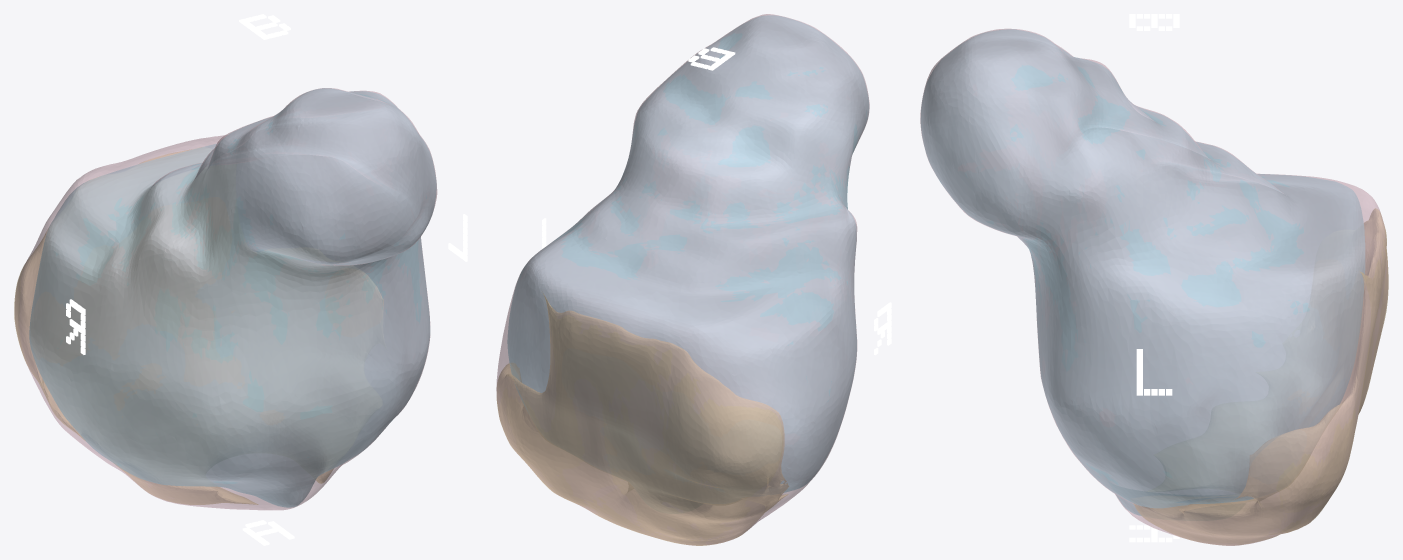
The picture shows the model from 3 angles, left to right: view 1: azimuth 30°, elevation 25°; view 2: azimuth 150°, elevation 25°; view 3: azimuth 270°, elevation 25°; orthographic projection. The views are drawn at different scales.
Visible parts, largest first — view 1: prostate_gland, transition_zone, peripheral_zone, pv_ar_marker_B, pv_ar_marker_R, pv_ar_marker_A; view 2: prostate_gland, transition_zone, peripheral_zone, pv_ar_marker_B, pv_ar_marker_R; view 3: prostate_gland, transition_zone, peripheral_zone, pv_ar_marker_B.
Boxes of the visible parts, <box> form: prostate_gland: <box>15,88,437,510</box>; transition_zone: <box>29,88,436,507</box>; peripheral_zone: <box>14,147,383,504</box>; pv_ar_marker_B: <box>239,14,290,39</box>; pv_ar_marker_R: <box>66,299,85,354</box>; pv_ar_marker_A: <box>242,520,294,545</box>; prostate_gland: <box>496,14,869,545</box>; transition_zone: <box>507,15,868,492</box>; peripheral_zone: <box>496,293,788,545</box>; pv_ar_marker_B: <box>688,47,735,70</box>; pv_ar_marker_R: <box>874,302,891,355</box>; prostate_gland: <box>920,28,1387,545</box>; transition_zone: <box>921,29,1364,515</box>; peripheral_zone: <box>1133,208,1388,545</box>; pv_ar_marker_B: <box>1129,14,1179,30</box>.
Bounding box in the file's own units: 0.0552 × 0.0697 × 0.0577.
